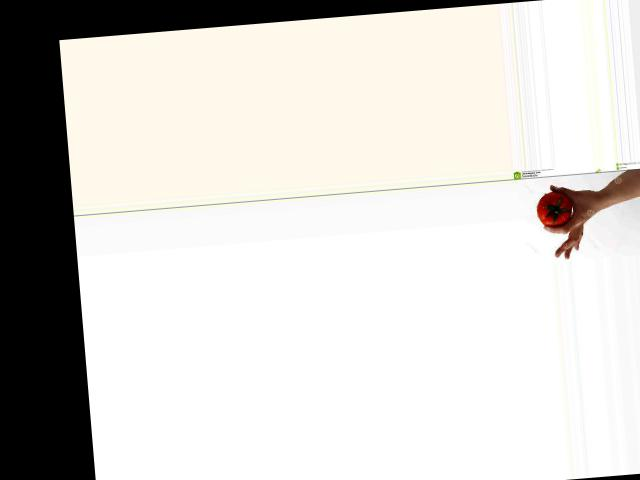tomato: (535, 190, 573, 228)
